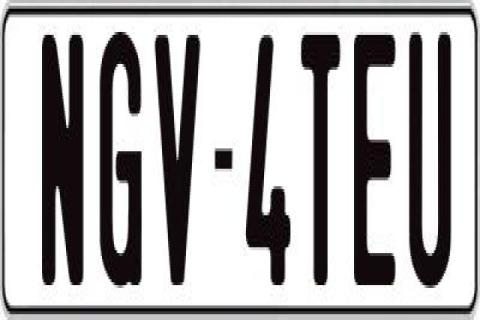0: (243, 32, 296, 296)
E: (354, 29, 396, 294)
G: (98, 29, 146, 299)
N: (42, 29, 84, 279)
T: (299, 35, 339, 303)
U: (410, 29, 456, 299)
V: (155, 29, 201, 285)
